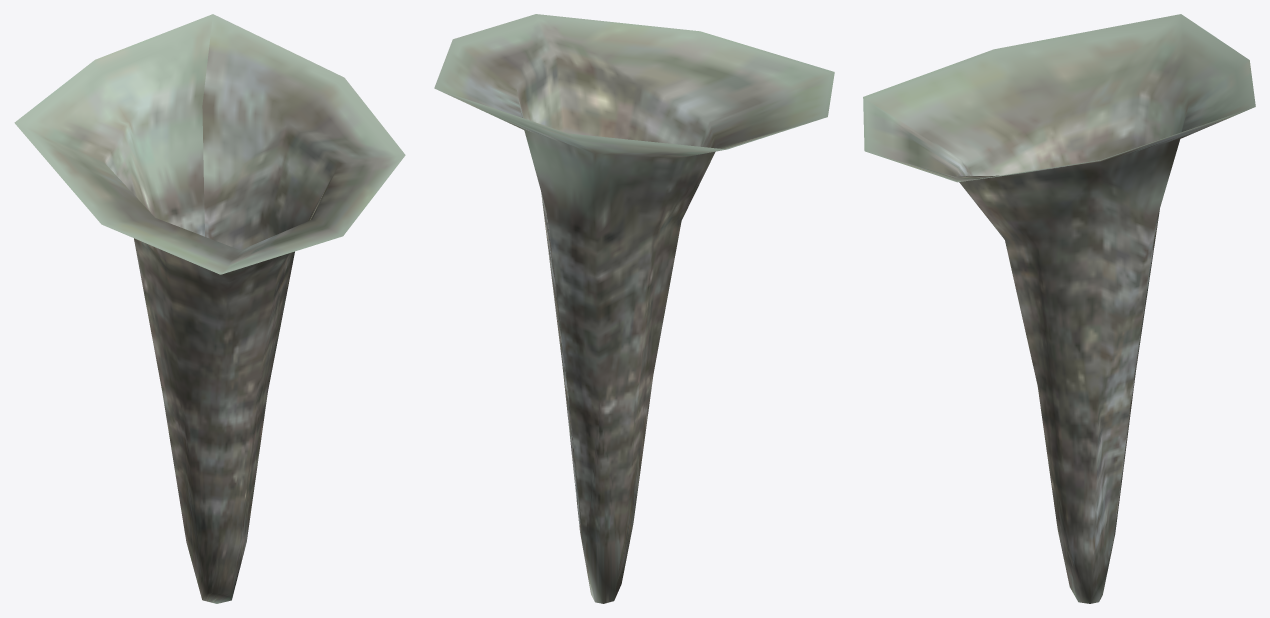
Rendered from TROLLHOLE02_PS-MAINSTALAG64.fbx.
3 renders of one model, left to right at view 1: azimuth 30°, elevation 25°; view 2: azimuth 150°, elevation 25°; view 3: azimuth 270°, elevation 25°, orthographic. The views are drawn at different scales.
Visible parts, largest first — view 1: TROLLHOLE02_PS-MAINSTALAG64; view 2: TROLLHOLE02_PS-MAINSTALAG64; view 3: TROLLHOLE02_PS-MAINSTALAG64.
Part boxes in pixels (x1,y1,x2,y2): TROLLHOLE02_PS-MAINSTALAG64: [14, 14, 405, 603]; TROLLHOLE02_PS-MAINSTALAG64: [434, 14, 834, 603]; TROLLHOLE02_PS-MAINSTALAG64: [863, 14, 1255, 603].
Size of the model in its own units: 17096 by 28373 by 18952.
1 material, 1 textured.
